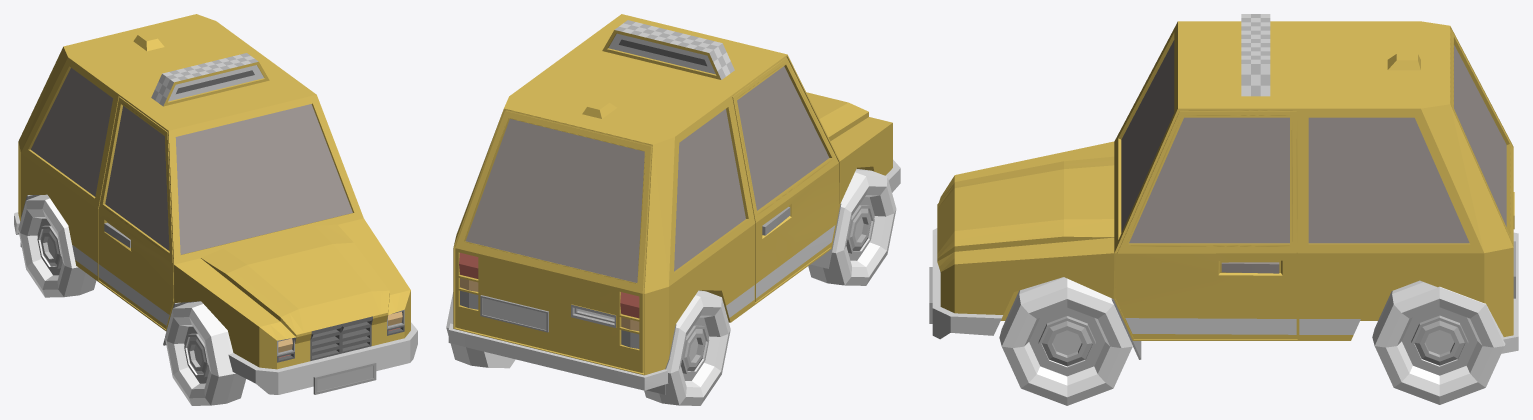
File: OrangeTruckwithWheels.fbx
The picture shows the model from 3 angles, left to right: view 1: azimuth 30°, elevation 25°; view 2: azimuth 150°, elevation 25°; view 3: azimuth 270°, elevation 25°; orthographic projection. The views are drawn at different scales.
Visible parts, largest first — view 1: Taxi, Taxi.004, Taxi.003; view 2: Taxi, Taxi.004, Taxi.003, Taxi.001; view 3: Taxi, Taxi.002, Taxi.001.
Boxes of the visible parts, x1,y1,x2,y2 form: Taxi: (14, 14, 417, 394); Taxi.004: (165, 301, 245, 405); Taxi.003: (18, 194, 96, 297); Taxi: (448, 14, 900, 394); Taxi.004: (808, 168, 896, 285); Taxi.003: (644, 290, 730, 405); Taxi.001: (446, 292, 515, 368); Taxi: (929, 14, 1518, 359); Taxi.002: (999, 277, 1132, 405); Taxi.001: (1372, 280, 1505, 404).
Size of the model in its own units: 130 by 161 by 275.
